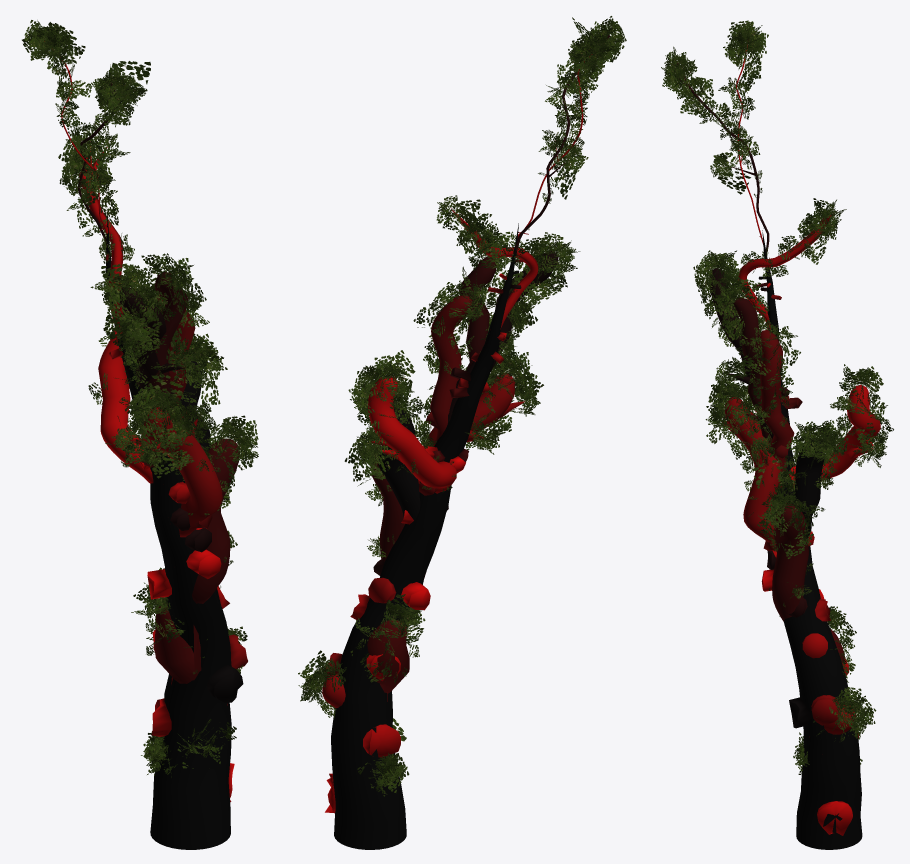
Rendered from Tree_15.fbx.
3 renders of one model, left to right at view 1: azimuth 30°, elevation 25°; view 2: azimuth 150°, elevation 25°; view 3: azimuth 270°, elevation 25°, orthographic. The views are drawn at different scales.
Parts seen in each view (by area): view 1: Tree_15; view 2: Tree_15; view 3: Tree_15.
Boxes of the visible parts, <box> form: Tree_15: <box>22,20,258,849</box>; Tree_15: <box>298,16,626,849</box>; Tree_15: <box>661,20,893,849</box>.
Size of the model in its own units: 1128 by 3359 by 973.
